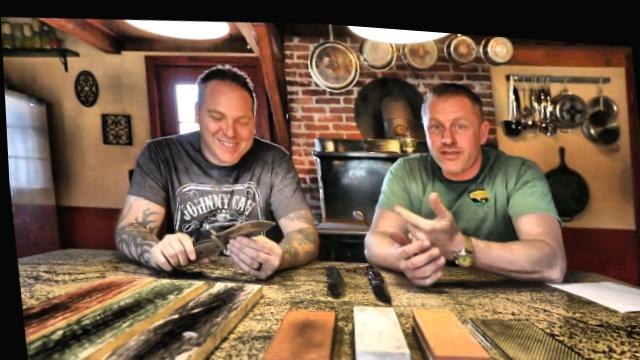knife: (193, 203, 285, 258)
